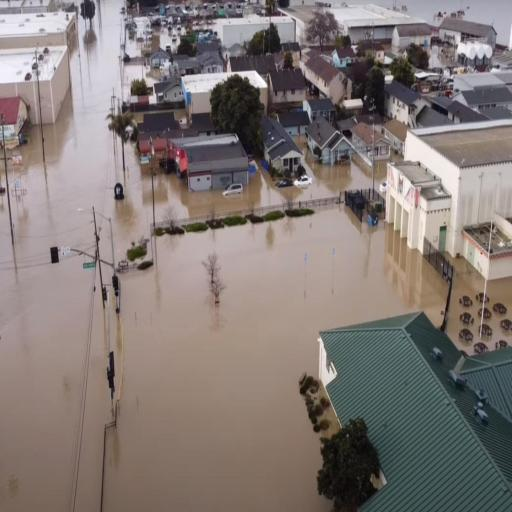flood: (102, 203, 448, 511), (0, 1, 152, 511), (154, 158, 372, 222), (122, 17, 180, 82), (463, 0, 512, 44), (397, 0, 462, 22), (133, 15, 152, 40), (345, 0, 394, 6)
house: (305, 308, 512, 512), (394, 95, 512, 289), (153, 125, 255, 195), (0, 45, 70, 127), (182, 69, 268, 127), (218, 13, 291, 59), (440, 13, 494, 70), (262, 111, 302, 180), (0, 9, 77, 43), (307, 116, 350, 172), (304, 52, 344, 106), (352, 120, 392, 172), (271, 65, 307, 114), (0, 97, 28, 152), (384, 78, 412, 124), (393, 22, 432, 54), (344, 16, 390, 42), (445, 98, 487, 122), (152, 78, 182, 106), (150, 47, 171, 71), (331, 44, 346, 67)
